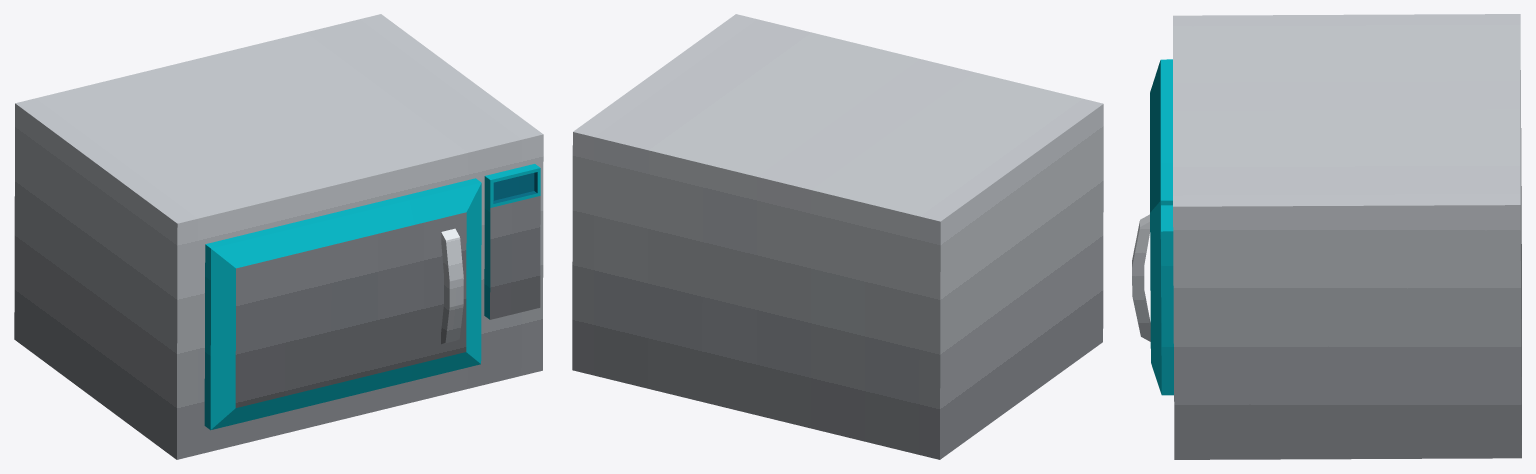
File: Microwave.fbx
3 views of the same model, side by side, from view 1: azimuth 30°, elevation 25°; view 2: azimuth 150°, elevation 25°; view 3: azimuth 270°, elevation 25° (orthographic). The views are drawn at different scales.
Visible parts, largest first — view 1: Microwave_v1; view 2: Microwave_v1; view 3: Microwave_v1.
Boxes of the visible parts, box(x1,y1,x2,y2) form: Microwave_v1: box(14, 14, 543, 459); Microwave_v1: box(572, 14, 1103, 459); Microwave_v1: box(1132, 14, 1521, 459).
Bounding box in the file's own units: 59.47 × 36.99 × 51.29.
